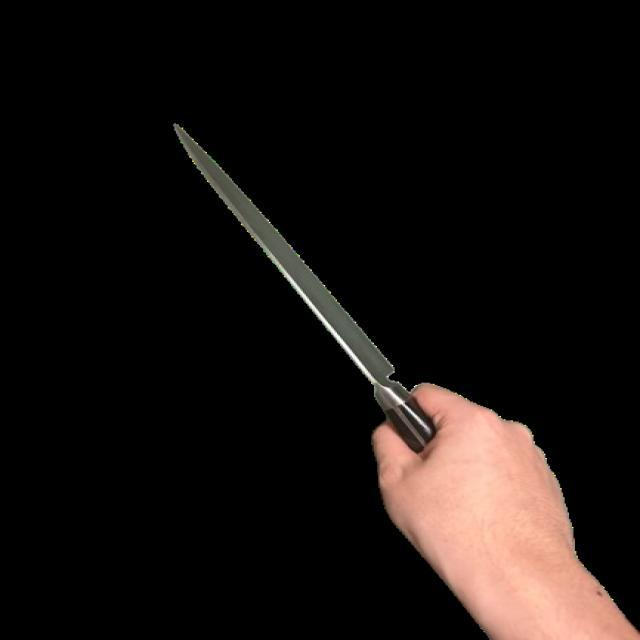knife: (137, 95, 452, 461)
